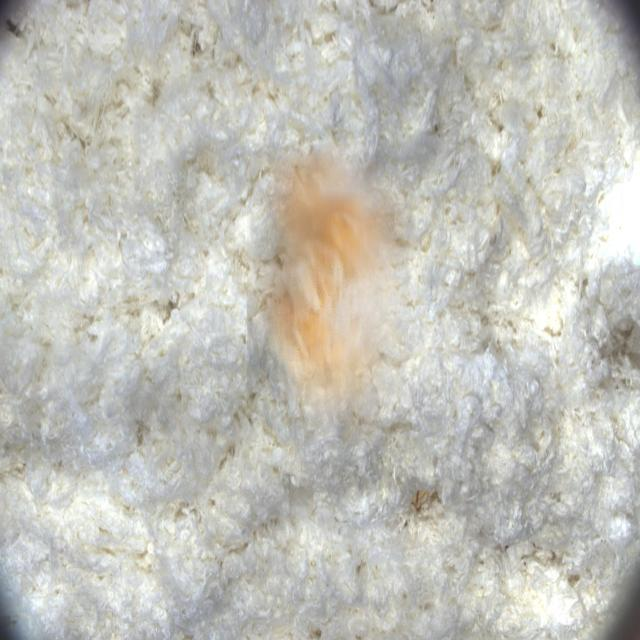dust: (247, 143, 416, 446)
